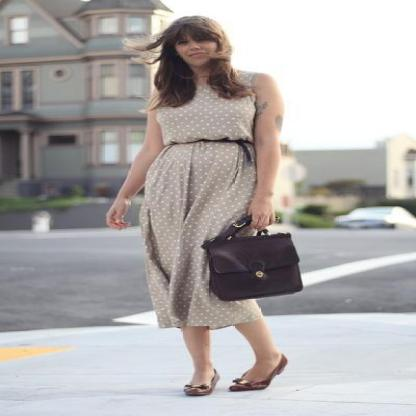bag: (200, 211, 301, 301)
dress: (133, 58, 258, 330)
shoe: (184, 378, 261, 396)
